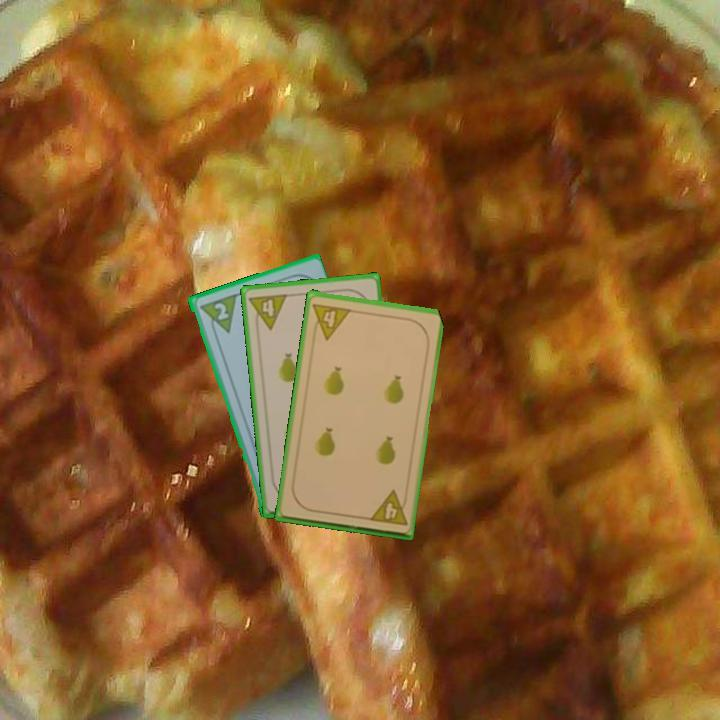2p: (195, 290, 239, 339)
4p: (309, 299, 354, 342), (246, 290, 290, 333), (365, 487, 410, 528)
